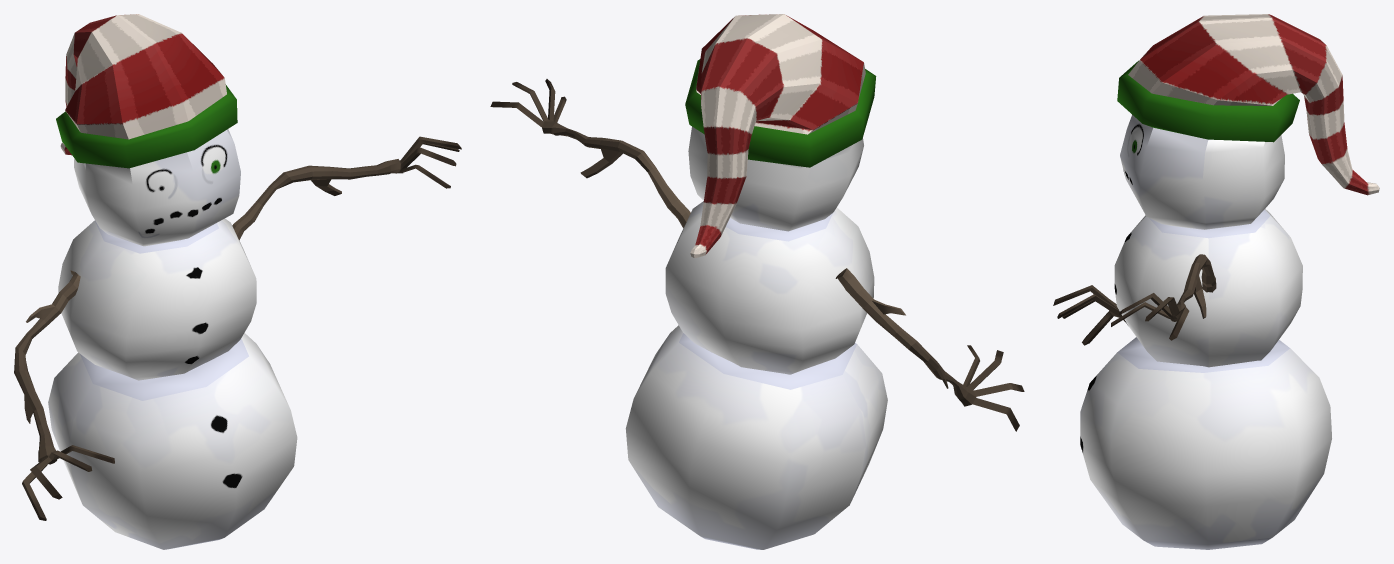
Rendered from CN_DeadSnowman2.fbx.
The picture shows the model from 3 angles, left to right: view 1: azimuth 30°, elevation 25°; view 2: azimuth 150°, elevation 25°; view 3: azimuth 270°, elevation 25°; orthographic projection. The views are drawn at different scales.
Visible parts, largest first — view 1: SnowMan_Mound_Bottom, snowman_head, Snowman_Mound_Middle, polySurface2, polySurface1; view 2: SnowMan_Mound_Bottom, snowman_head, Snowman_Mound_Middle, polySurface2, polySurface1; view 3: SnowMan_Mound_Bottom, snowman_head, Snowman_Mound_Middle, polySurface1, polySurface2.
Boxes of the visible parts, <box> form: SnowMan_Mound_Bottom: <box>48,333,297,549</box>; snowman_head: <box>56,14,240,246</box>; Snowman_Mound_Middle: <box>58,218,256,380</box>; polySurface2: <box>14,270,114,520</box>; polySurface1: <box>232,136,461,240</box>; SnowMan_Mound_Bottom: <box>625,325,887,549</box>; snowman_head: <box>685,14,876,258</box>; Snowman_Mound_Middle: <box>665,201,874,374</box>; polySurface2: <box>835,268,1024,431</box>; polySurface1: <box>490,79,690,228</box>; SnowMan_Mound_Bottom: <box>1080,337,1331,549</box>; snowman_head: <box>1117,14,1379,229</box>; Snowman_Mound_Middle: <box>1114,209,1302,367</box>; polySurface1: <box>1111,254,1216,340</box>; polySurface2: <box>1053,285,1125,345</box>.
Bounding box in the file's own units: 304 × 309 × 181.
